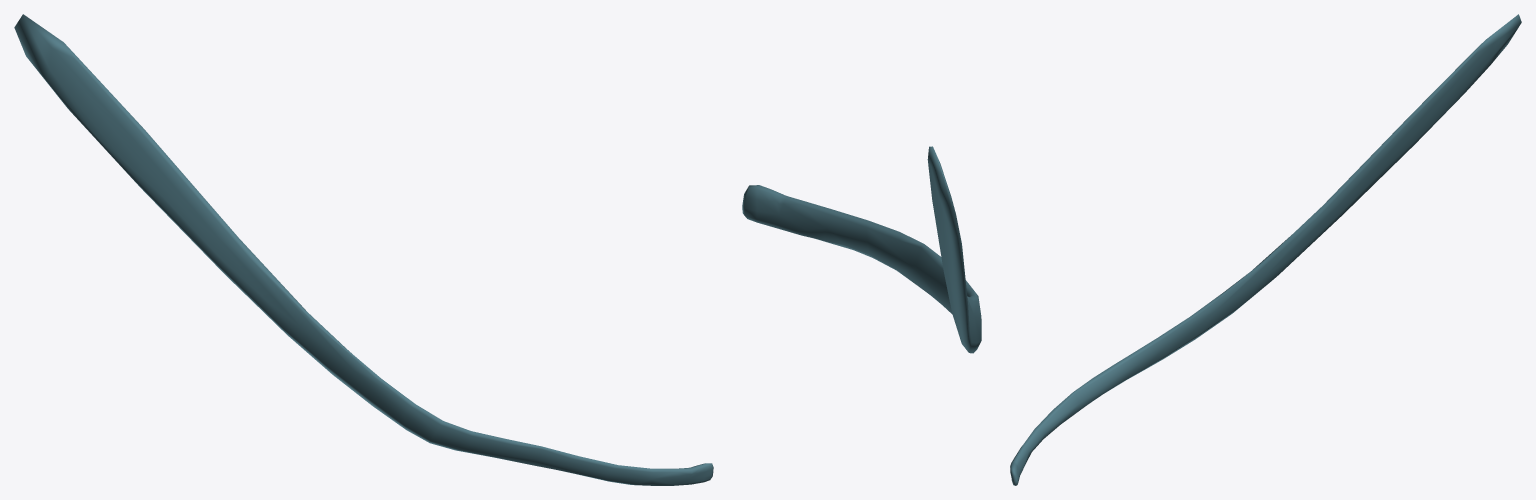
File: Mylohyoid_mandible_right.glb
3 renders of one model, left to right at view 1: azimuth 30°, elevation 25°; view 2: azimuth 150°, elevation 25°; view 3: azimuth 270°, elevation 25°, orthographic. The views are drawn at different scales.
Visible parts, largest first — view 1: Mylohyoid_muscle_on_mandible.r_Generated_Mesh_From_X3D.766; view 2: Mylohyoid_muscle_on_mandible.r_Generated_Mesh_From_X3D.766; view 3: Mylohyoid_muscle_on_mandible.r_Generated_Mesh_From_X3D.766.
Part boxes in pixels (box(x1,y1,x2,y2)): Mylohyoid_muscle_on_mandible.r_Generated_Mesh_From_X3D.766: box(14, 14, 713, 485); Mylohyoid_muscle_on_mandible.r_Generated_Mesh_From_X3D.766: box(742, 146, 981, 353); Mylohyoid_muscle_on_mandible.r_Generated_Mesh_From_X3D.766: box(1010, 14, 1521, 485).
Size of the model in its own units: 0.0262 by 0.0216 by 0.0329.
